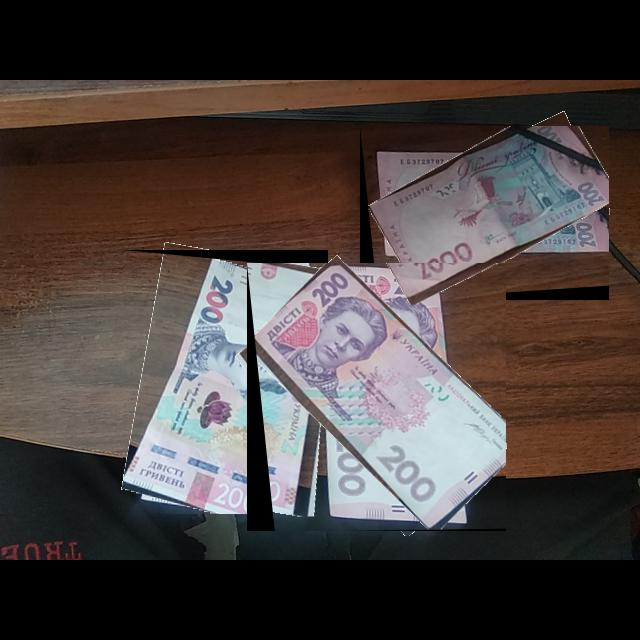200uah: (253, 263, 507, 530), (123, 257, 329, 515), (367, 126, 610, 300)
